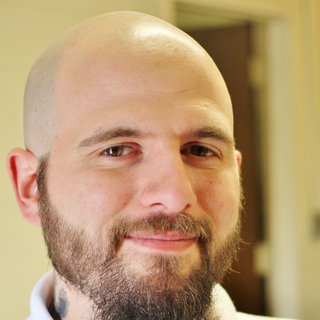eye: (179, 139, 227, 166), (94, 138, 144, 163)
